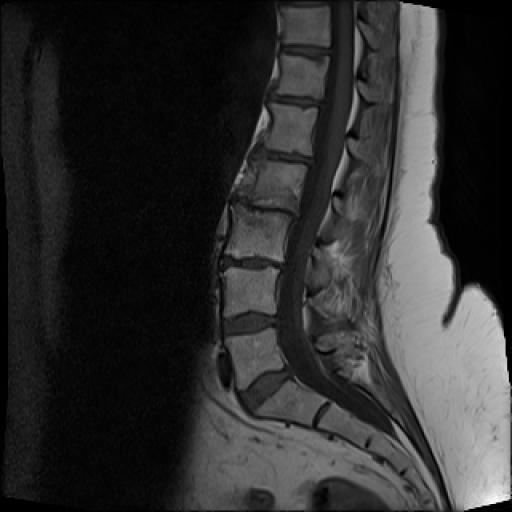L1: (266, 103, 317, 156)
L2: (248, 157, 308, 216)
L3: (226, 207, 291, 262)
L4: (224, 268, 279, 316)
L5: (225, 329, 285, 388)
S1: (255, 379, 326, 426)
